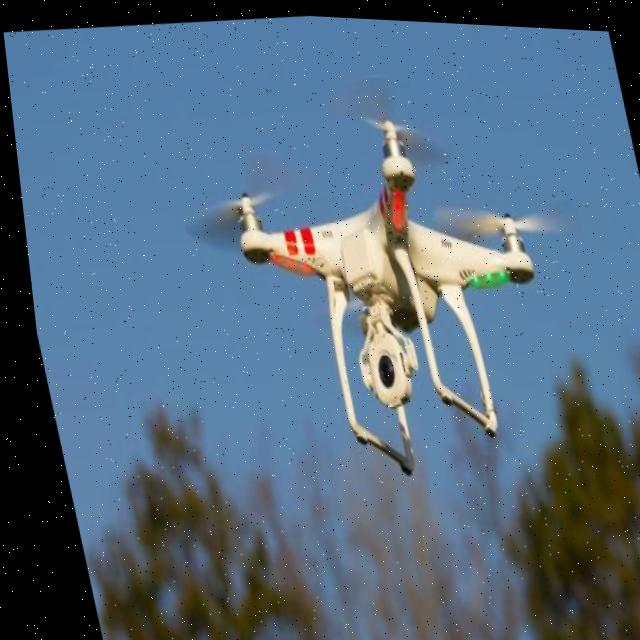drones: (155, 85, 605, 491)
